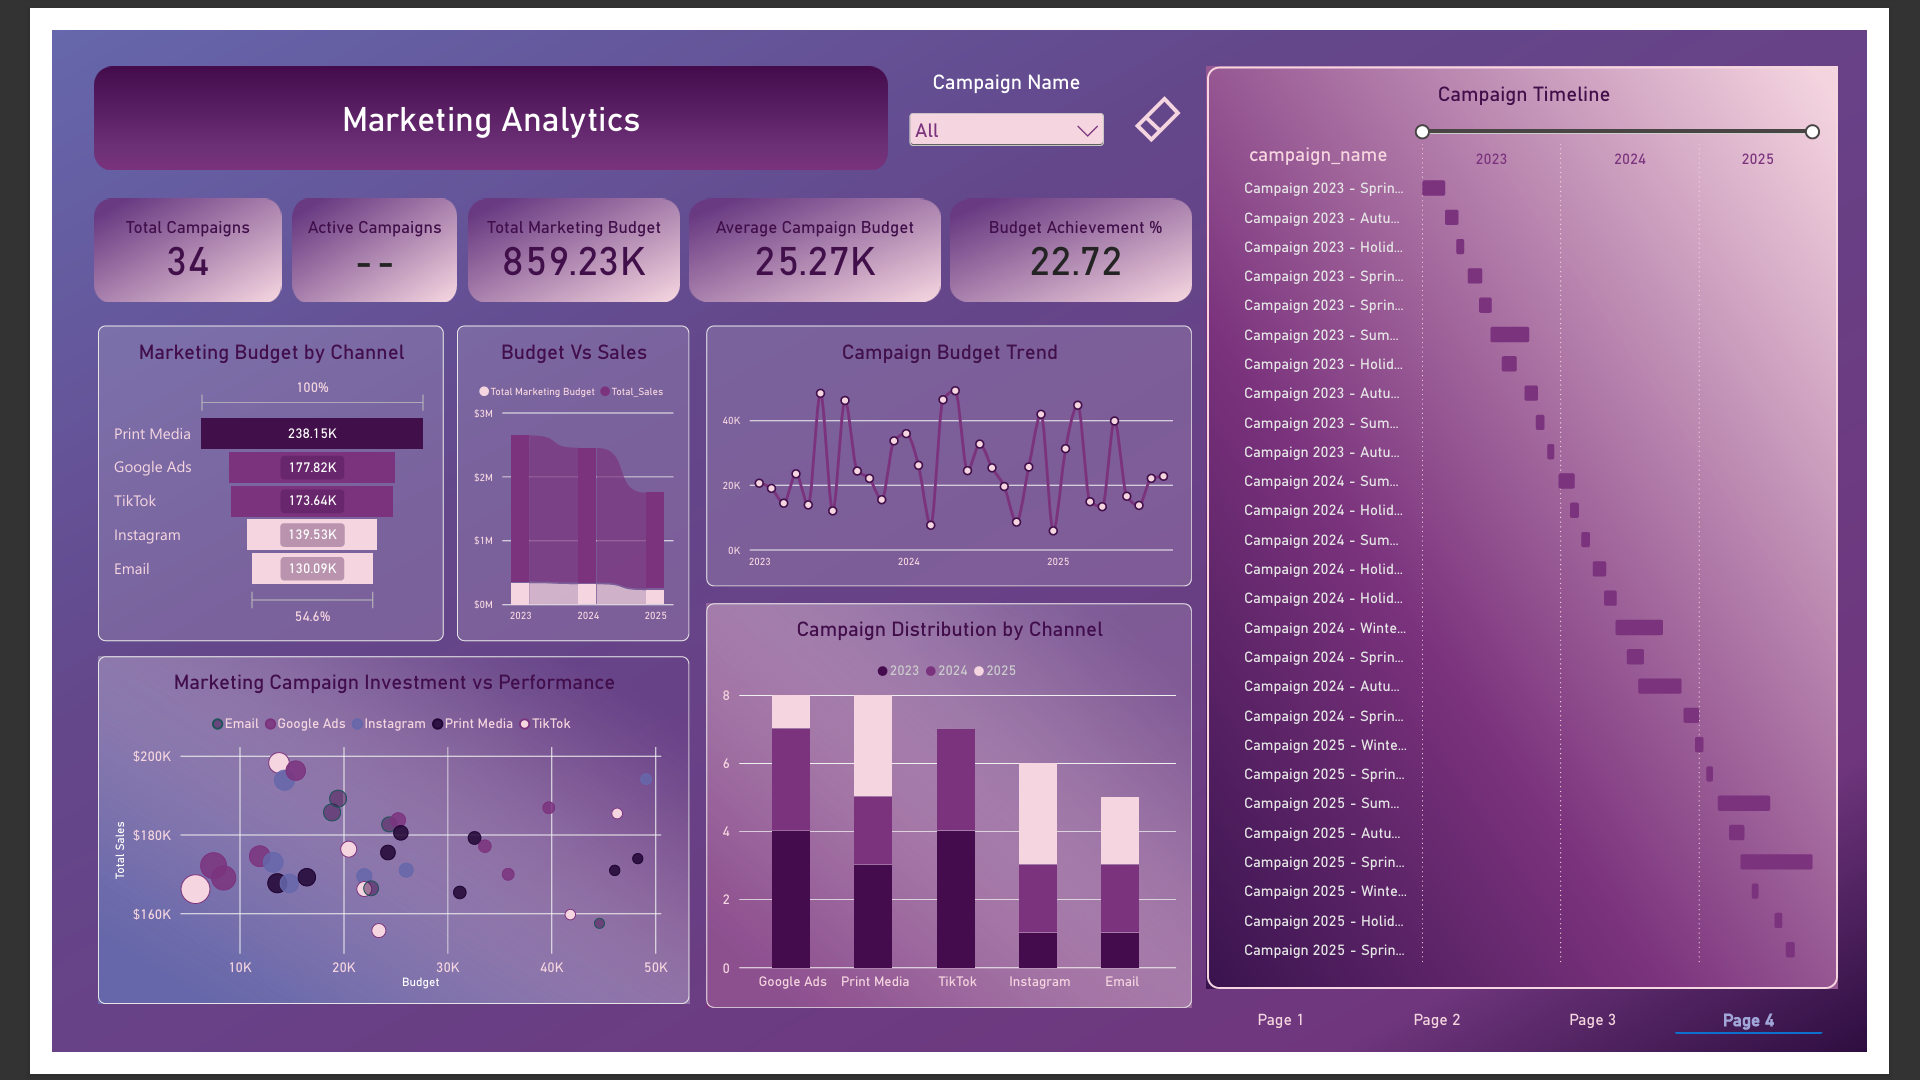

What the dashboard file says about the page in this screenshot:
{"tool":"powerbi","page":{"name":"Page 4","canvas":[1920,1080],"ordinal":3},"visuals":[{"type":"image","box":[48,662,626,368],"z":0},{"type":"image","box":[1222,38,668,976],"z":1000},{"type":"image","box":[692,606,514,428],"z":2000},{"type":"image","box":[950,178,256,110],"z":3000},{"type":"image","box":[674,178,266,110],"z":4000},{"type":"image","box":[440,178,224,110],"z":5000},{"type":"image","box":[254,178,174,110],"z":6000},{"type":"image","box":[44,178,198,110],"z":7000},{"type":"image","box":[44,38,840,110],"z":8000},{"type":"shape","box":[44,38,840,110],"z":9000},{"type":"cardVisual","fields":{"Data":["Measures_Table.Active Campaigns"]},"box":[254,178,174,110],"z":10000},{"type":"cardVisual","fields":{"Data":["Measures_Table.Average Campaign Budget"]},"box":[674,178,266,110],"z":11000},{"type":"cardVisual","fields":{"Data":["Measures_Table.Total Campaigns"]},"box":[44,178,198,110],"z":12000},{"type":"cardVisual","fields":{"Data":["Measures_Table.Total Marketing Budget"]},"box":[440,178,224,110],"z":13000},{"type":"funnel","title":"Marketing Budget by Channel","fields":{"Category":["Ashbourne_Marketing_Campaigns.channel"],"Y":["Measures_Table.Total Marketing Budget"]},"box":[48,312,366,334],"z":14000},{"type":"lineChart","title":"Campaign Budget Trend","fields":{"Category":["Ashbourne_Marketing_Campaigns.start_date.Variation.Date Hierarchy.Year","Ashbourne_Marketing_Campaigns.start_date.Variation.Date Hierarchy.Quarter","Ashbourne_Marketing_Campaigns.start_date.Variation.Date Hierarchy.Month","Ashbourne_Marketing_Campaigns.start_date.Variation.Date Hierarchy.Day"],"Y":["Measures_Table.Total Marketing Budget"]},"box":[692,312,514,276],"z":15000},{"type":"ganttChart","title":"Campaign Timeline","fields":{"EndDate":["Max(Ashbourne_Marketing_Campaigns.end_date)"],"StartDate":["Min(Ashbourne_Marketing_Campaigns.start_date)"],"Task":["Ashbourne_Marketing_Campaigns.campaign_name"]},"box":[1222,38,668,976],"z":16000},{"type":"columnChart","title":"Campaign Distribution by Channel","fields":{"Category":["Ashbourne_Marketing_Campaigns.channel"],"Series":["Ashbourne_Marketing_Campaigns.Start_Year"],"Y":["Measures_Table.Total Campaigns"]},"box":[692,606,514,428],"z":17000},{"type":"ribbonChart","title":"Budget Vs Sales","fields":{"Category":["Ashbourne_Marketing_Campaigns.Start_Year"],"Y":["Measures_Table.Total Marketing Budget","Measures_Table.Total_Sales"]},"box":[428,312,246,334],"z":18000},{"type":"cardVisual","fields":{"Data":["Measures_Table.Budget Achievement %"]},"box":[960,178,246,110],"z":19000},{"type":"scatterChart","title":"Marketing Campaign Investment vs Performance","fields":{"Series":["Ashbourne_Marketing_Campaigns.channel"],"Size":["Measures_Table.Campaign ROI"],"X":["Ashbourne_Marketing_Campaigns.budget"],"Y":["Measures_Table.Total_Sales"]},"box":[48,662,626,368],"z":20000},{"type":"pageNavigator","box":[1222,1030,654,32],"z":21000},{"type":"actionButton","box":[1118,42,104,106],"z":22000},{"type":"slicer","title":"Campaign Name","fields":{"Values":["Ashbourne_Marketing_Campaigns.campaign_name"]},"box":[902,42,216,86],"z":23000}]}

Visuals, with their boxes in screenshot pixels (x1, y1, x2, y2), scaled from the page's 1920x1080 canvas onto the 1920x1080 screenshot:
image: (x1=48, y1=662, x2=674, y2=1030)
image: (x1=1222, y1=38, x2=1890, y2=1014)
image: (x1=692, y1=606, x2=1206, y2=1034)
image: (x1=950, y1=178, x2=1206, y2=288)
image: (x1=674, y1=178, x2=940, y2=288)
image: (x1=440, y1=178, x2=664, y2=288)
image: (x1=254, y1=178, x2=428, y2=288)
image: (x1=44, y1=178, x2=242, y2=288)
image: (x1=44, y1=38, x2=884, y2=148)
shape: (x1=44, y1=38, x2=884, y2=148)
cardVisual - Measures_Table.Active Campaigns: (x1=254, y1=178, x2=428, y2=288)
cardVisual - Measures_Table.Average Campaign Budget: (x1=674, y1=178, x2=940, y2=288)
cardVisual - Measures_Table.Total Campaigns: (x1=44, y1=178, x2=242, y2=288)
cardVisual - Measures_Table.Total Marketing Budget: (x1=440, y1=178, x2=664, y2=288)
"Marketing Budget by Channel" funnel: (x1=48, y1=312, x2=414, y2=646)
"Campaign Budget Trend" lineChart: (x1=692, y1=312, x2=1206, y2=588)
"Campaign Timeline" ganttChart: (x1=1222, y1=38, x2=1890, y2=1014)
"Campaign Distribution by Channel" columnChart: (x1=692, y1=606, x2=1206, y2=1034)
"Budget Vs Sales" ribbonChart: (x1=428, y1=312, x2=674, y2=646)
cardVisual - Measures_Table.Budget Achievement %: (x1=960, y1=178, x2=1206, y2=288)
"Marketing Campaign Investment vs Performance" scatterChart: (x1=48, y1=662, x2=674, y2=1030)
pageNavigator: (x1=1222, y1=1030, x2=1876, y2=1062)
actionButton: (x1=1118, y1=42, x2=1222, y2=148)
"Campaign Name" slicer: (x1=902, y1=42, x2=1118, y2=128)
